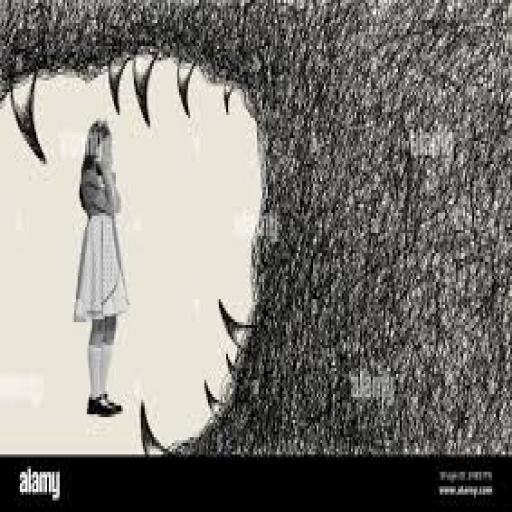person: (74, 112, 129, 427)
